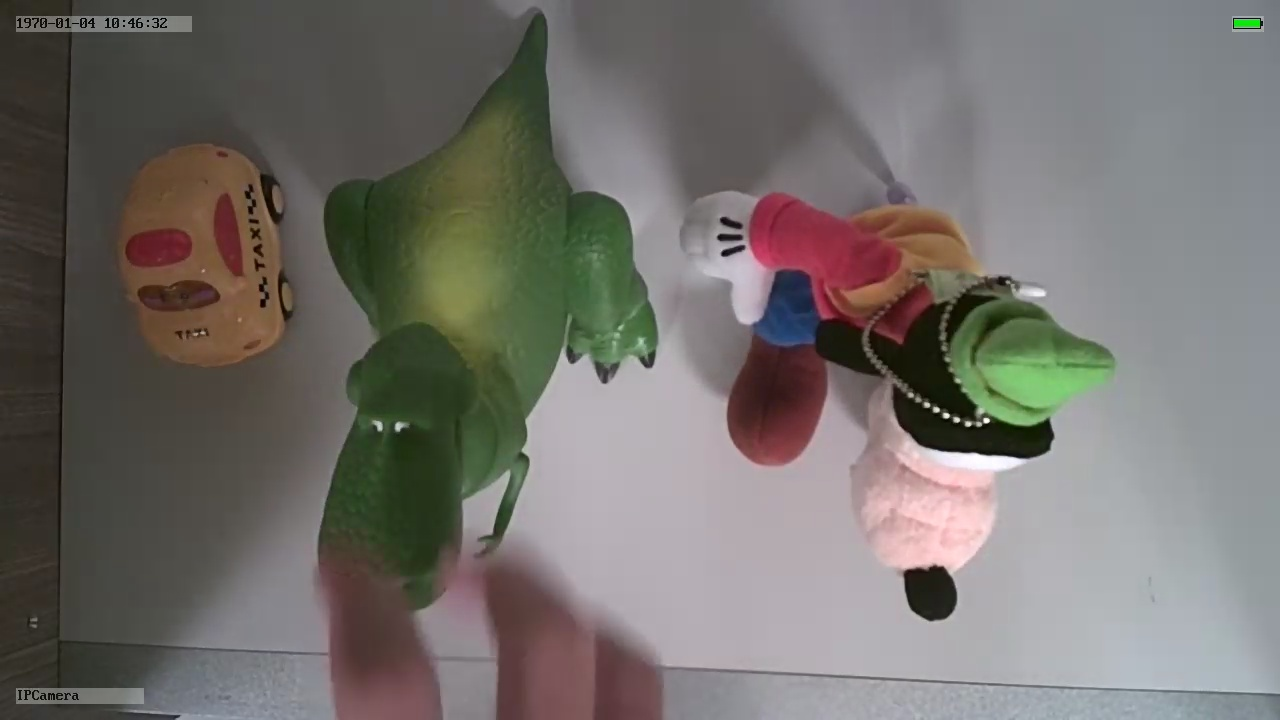car: (119, 137, 299, 370)
goofy: (676, 189, 1116, 630)
